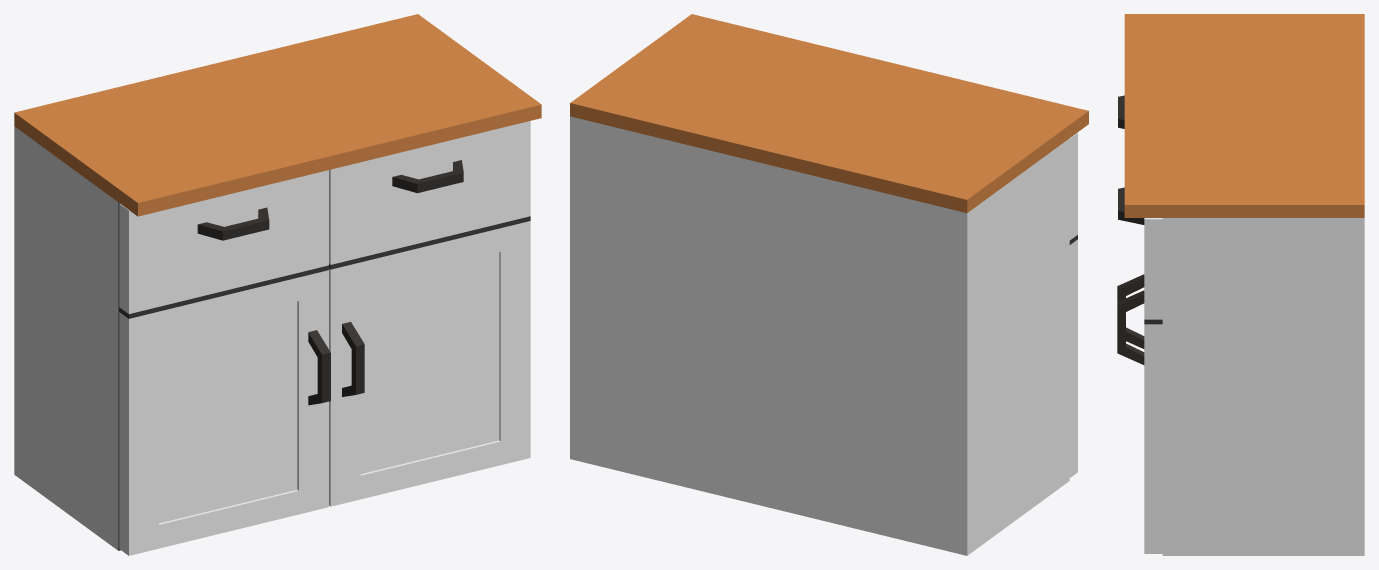
The model's file is Kitchen_Cabinet_4A.fbx.
The picture shows the model from 3 angles, left to right: view 1: azimuth 30°, elevation 25°; view 2: azimuth 150°, elevation 25°; view 3: azimuth 270°, elevation 25°; orthographic projection. The views are drawn at different scales.
Parts seen in each view (by area): view 1: polySurface2146; view 2: polySurface2146; view 3: polySurface2146.
Part boxes in pixels (<box>): polySurface2146: <box>14,14,541,555</box>; polySurface2146: <box>570,14,1088,555</box>; polySurface2146: <box>1117,14,1364,555</box>.
Bounding box in the file's own units: 1.56 × 1.34 × 0.8527.
1 material, 1 textured.
